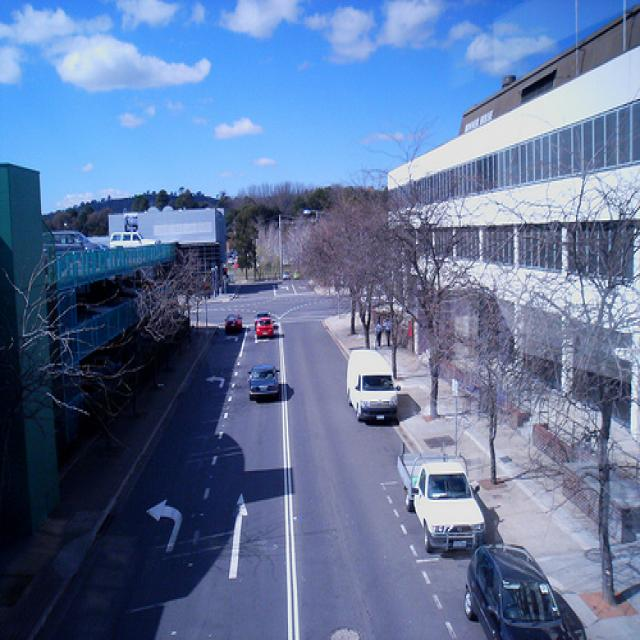Car: (462, 544, 568, 640), (395, 453, 487, 553), (346, 346, 400, 424), (248, 360, 280, 403), (253, 313, 277, 342), (222, 314, 246, 338)
